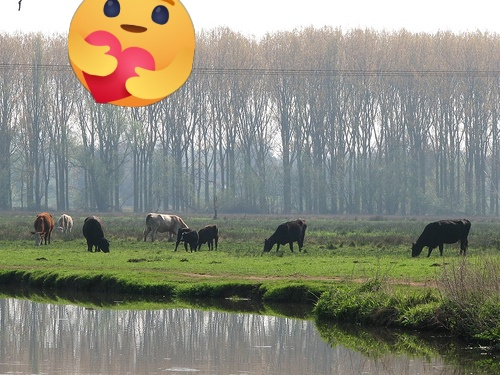care: (68, 0, 195, 107)
